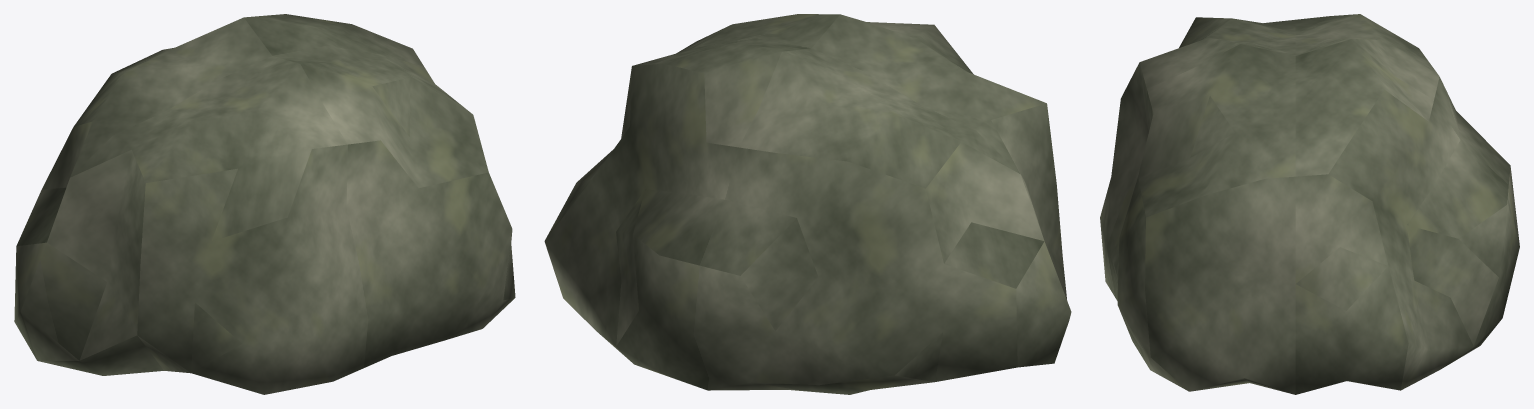
File: Rock_Water_3_LOD1.gltf
3 views of the same model, side by side, from view 1: azimuth 30°, elevation 25°; view 2: azimuth 150°, elevation 25°; view 3: azimuth 270°, elevation 25° (orthographic). The views are drawn at different scales.
Parts seen in each view (by area): view 1: Rock_Water_3_LOD1; view 2: Rock_Water_3_LOD1; view 3: Rock_Water_3_LOD1.
Part boxes in pixels (<box>): Rock_Water_3_LOD1: <box>14,14,515,394</box>; Rock_Water_3_LOD1: <box>544,14,1071,394</box>; Rock_Water_3_LOD1: <box>1100,14,1519,394</box>.
Bounding box in the file's own units: 3.81 × 2.27 × 3.06.
Materials: 1 (1 with a texture image).
